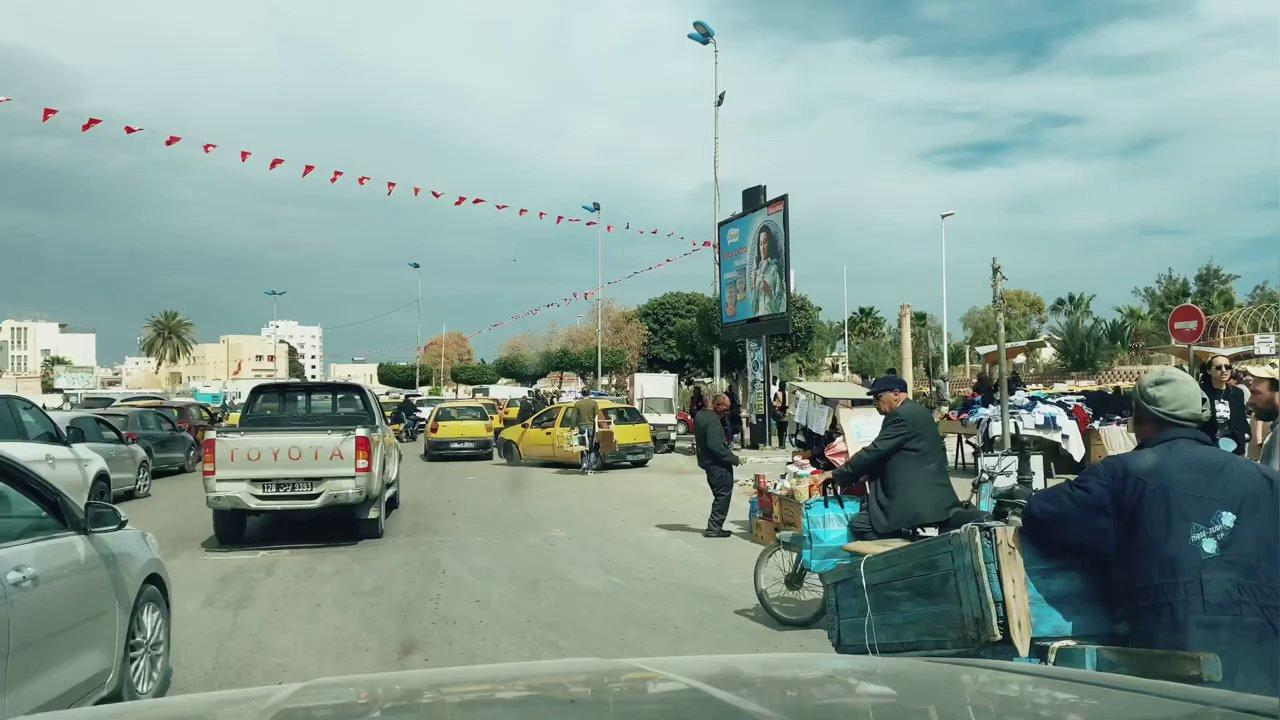no entry: (1167, 303, 1208, 344)
